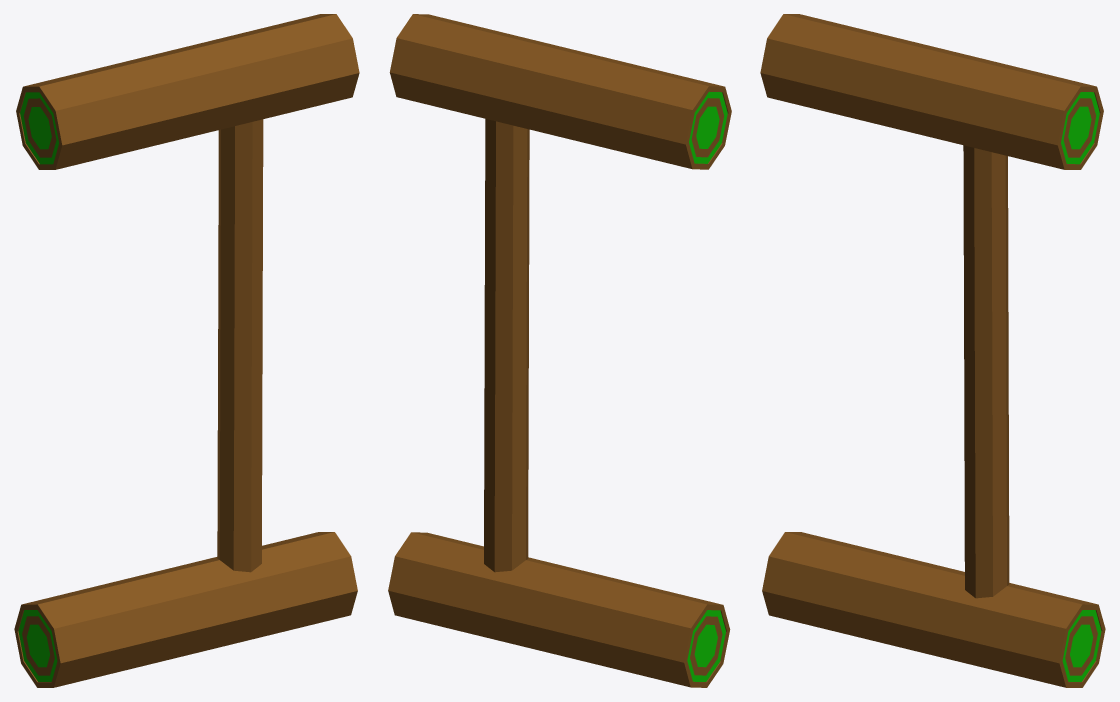
Rendered from BuyFenceSmall.fbx.
3 views of the same model, side by side, from view 1: azimuth 30°, elevation 25°; view 2: azimuth 150°, elevation 25°; view 3: azimuth 330°, elevation 25° (orthographic).
Visible parts, largest first — view 1: Torus.017; view 2: Torus.017; view 3: Torus.017.
Part boxes in pixels (<box>): Torus.017: <box>14,14,359,687</box>; Torus.017: <box>388,14,731,687</box>; Torus.017: <box>760,14,1105,687</box>.
Bounding box in the file's own units: 81.55 × 566 × 292.
